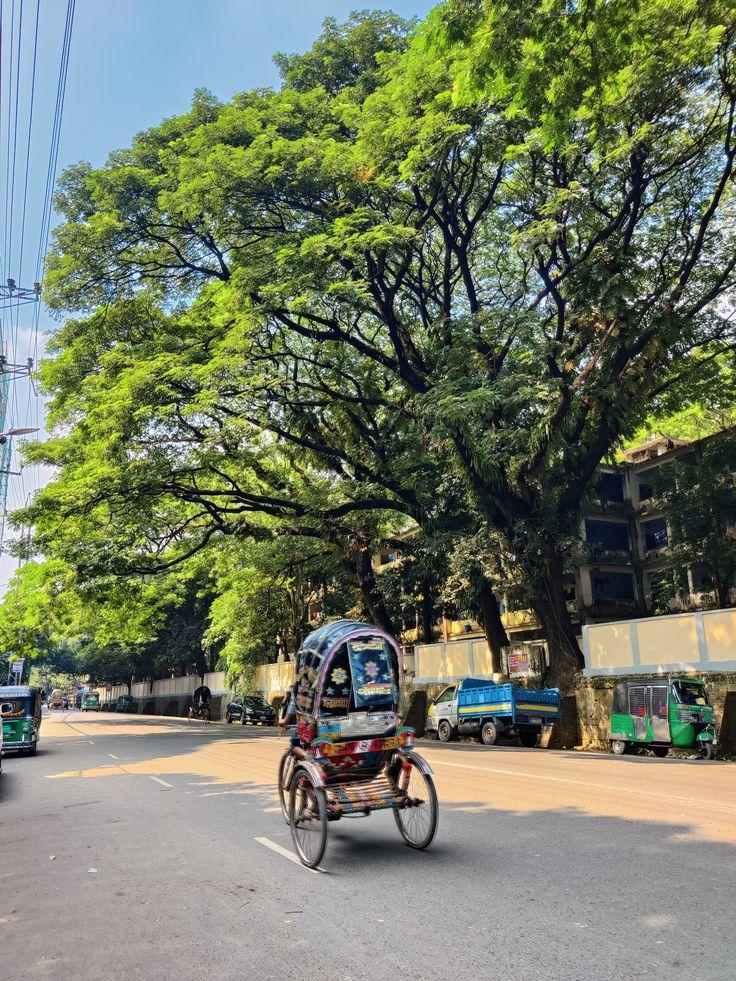Rickshaw: (266, 606, 461, 894)
